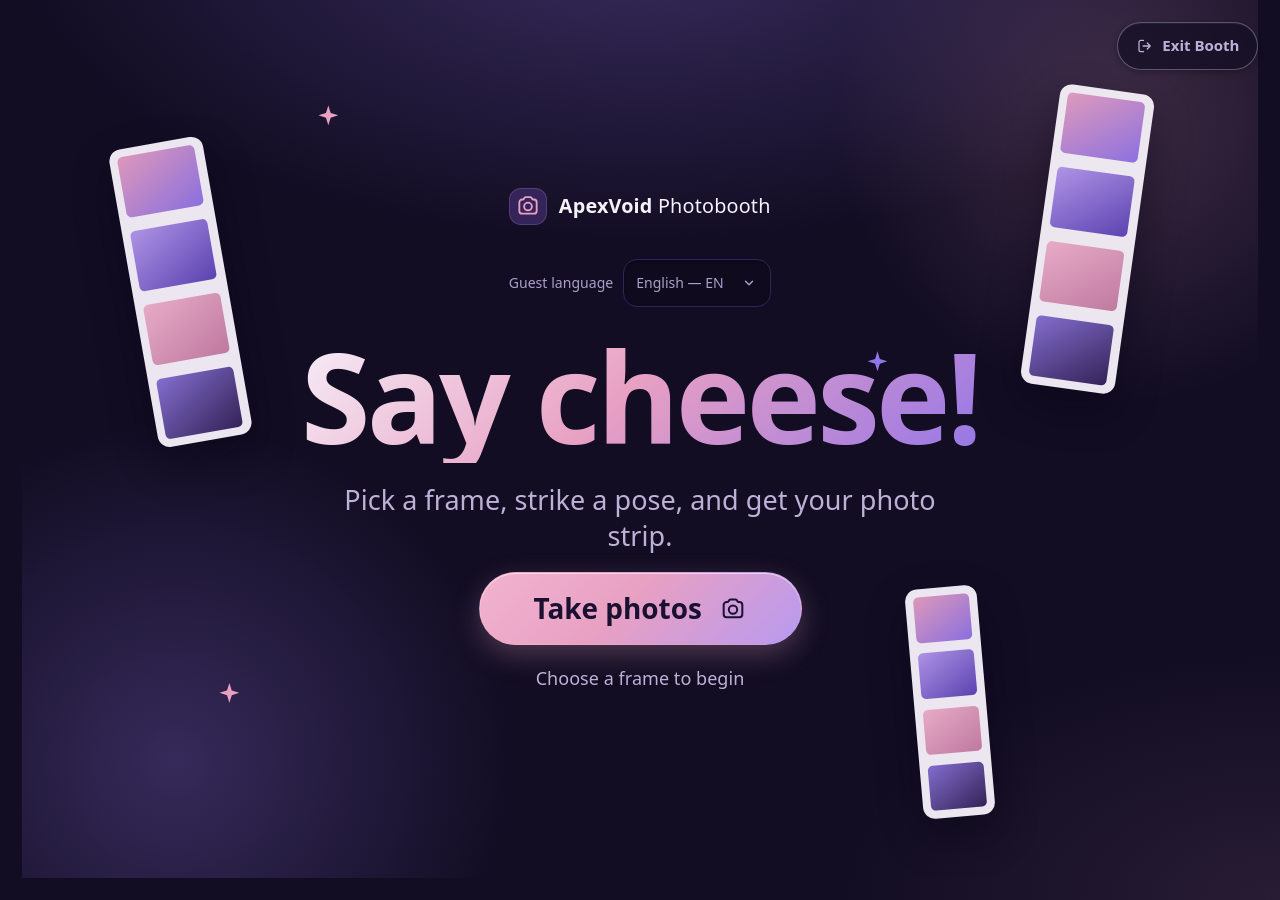
Scenario: Booth exit › exits and restores the window only after confirming
Later steps or results of the test are not shown.
Click the button with aria-label "Exit Booth Mode".
click(1188, 46)  # box [1117,22,1258,70]
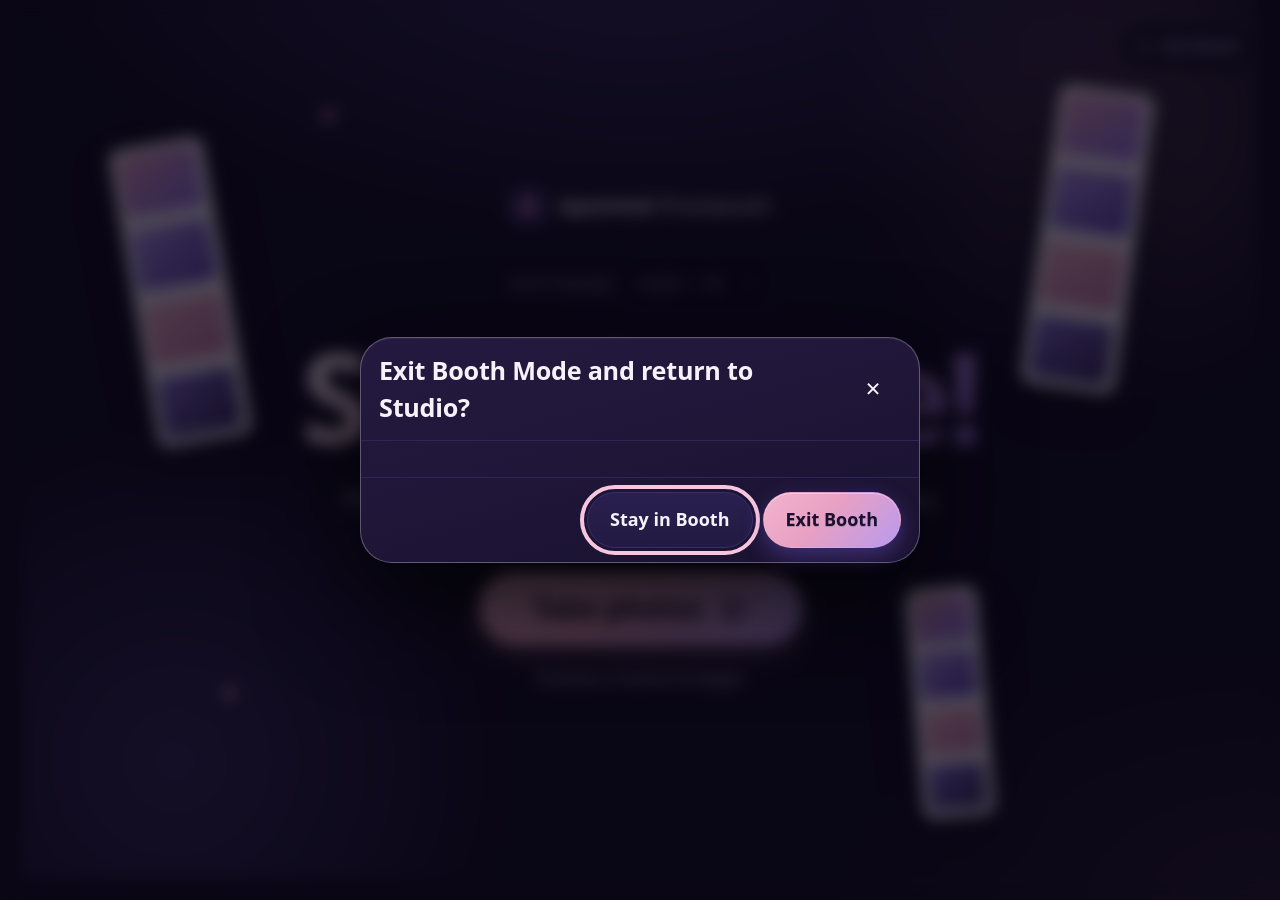
Click the button "Stay in Booth".
click(670, 520)  # box [587,492,752,548]
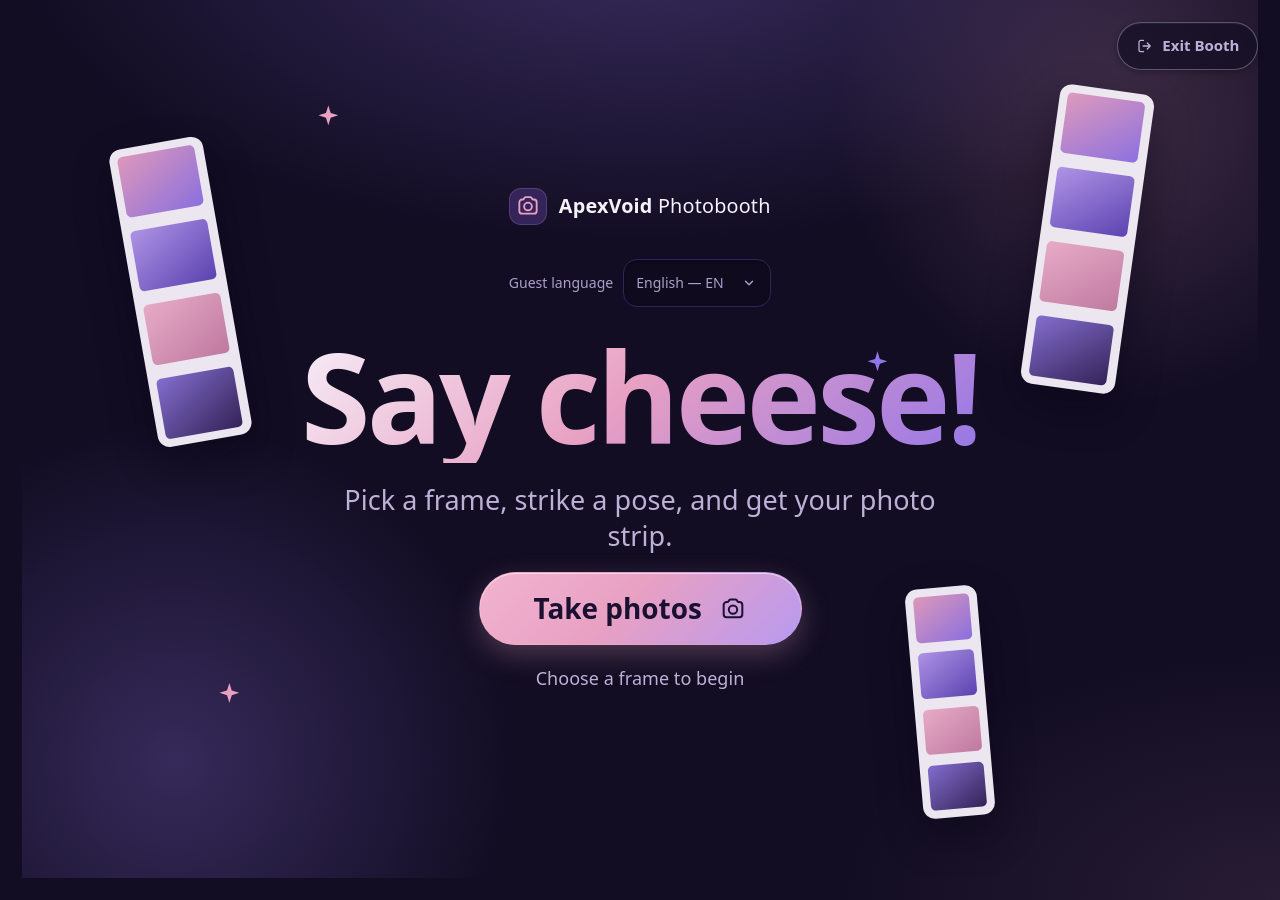
Result: the heading "Exit Booth Mode and return to Studio?" is gone
